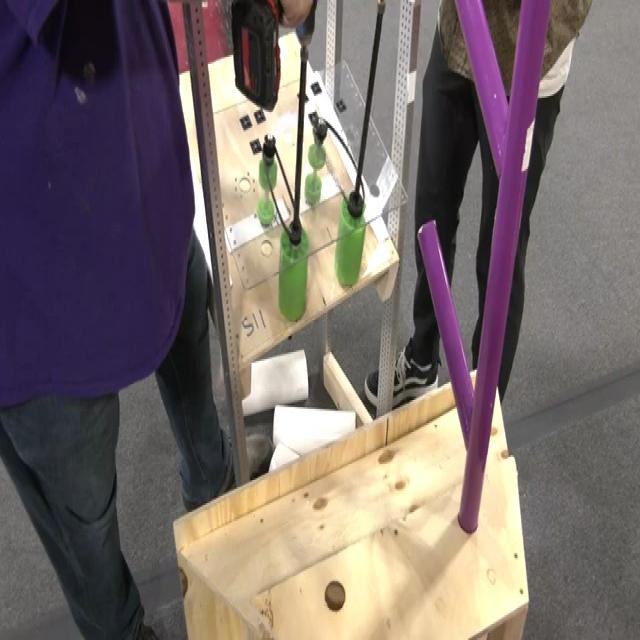Coral: (242, 352, 310, 414), (273, 405, 355, 453)
